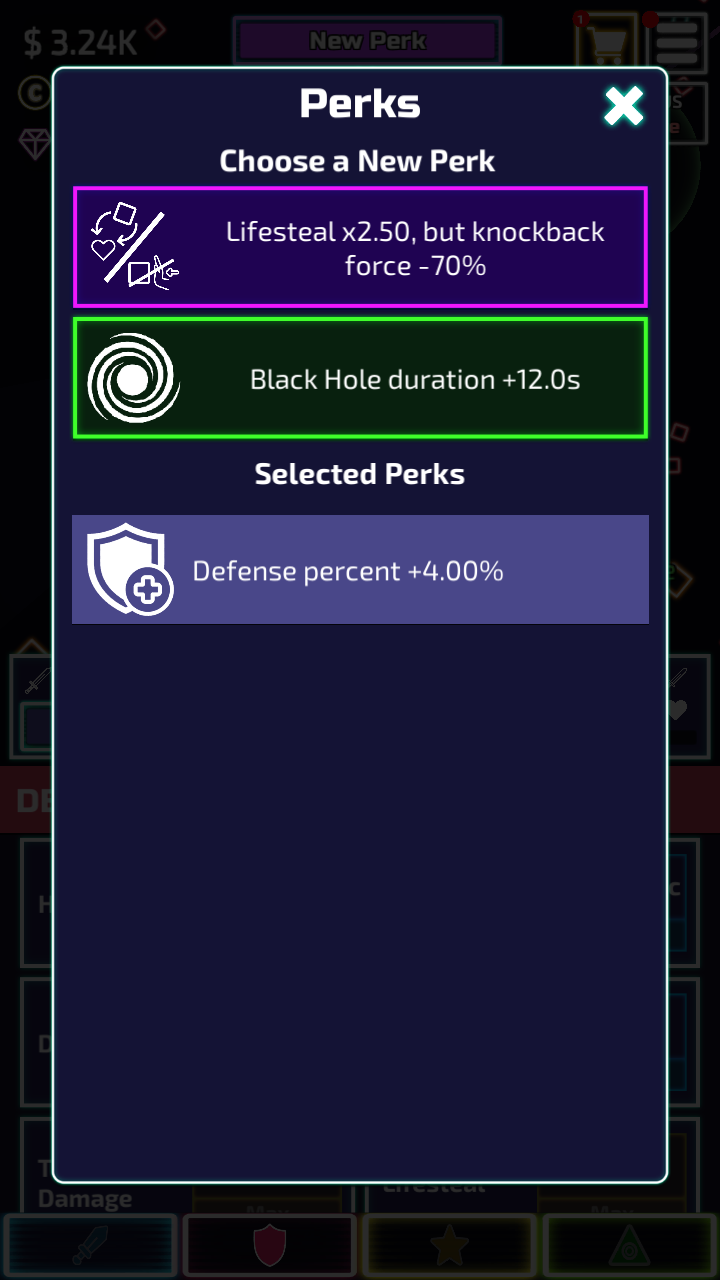B_Menu_Closed: (571, 15, 703, 66)
